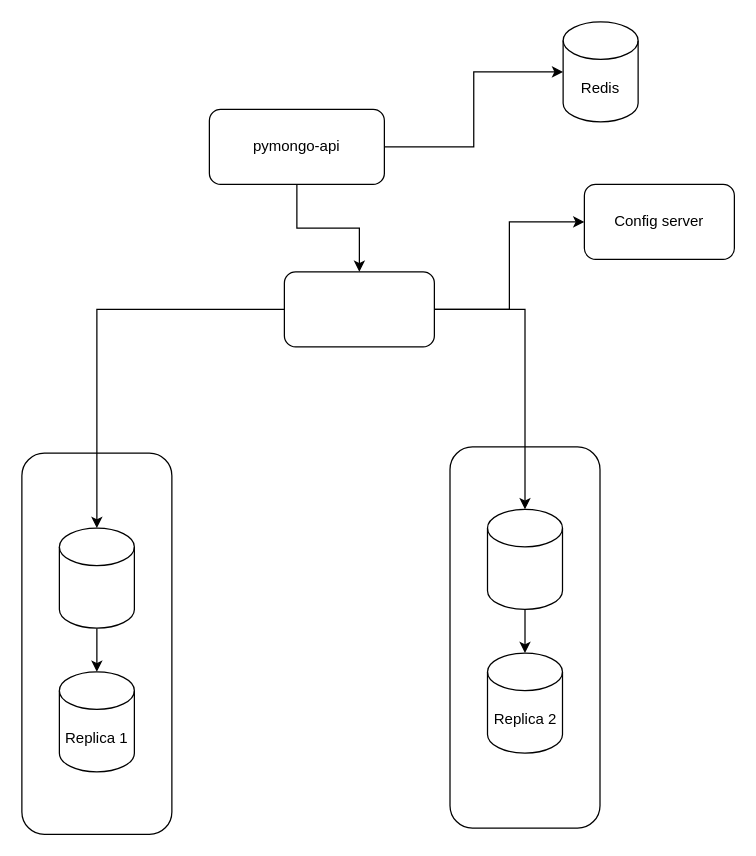
This 756x856 diagram has some shape labels left out. The shapes that lost their labels are listed below. From the top down, each one's centre as x and y in pixels, then its label:
At point (358, 309): "Router".
At point (96, 577): "MongoDB Shard-1".
At point (524, 558): "MongoDB Shard-2".
